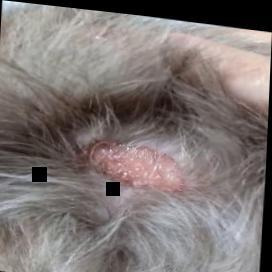skin_lesions: (91, 129, 194, 194)
